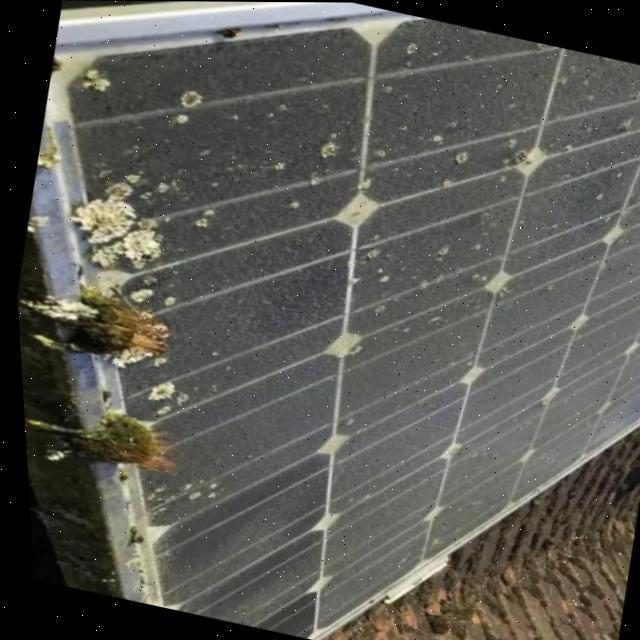Anomaly Solar Panel: (54, 17, 640, 639)
Surface Contaminant: (50, 17, 640, 639)
